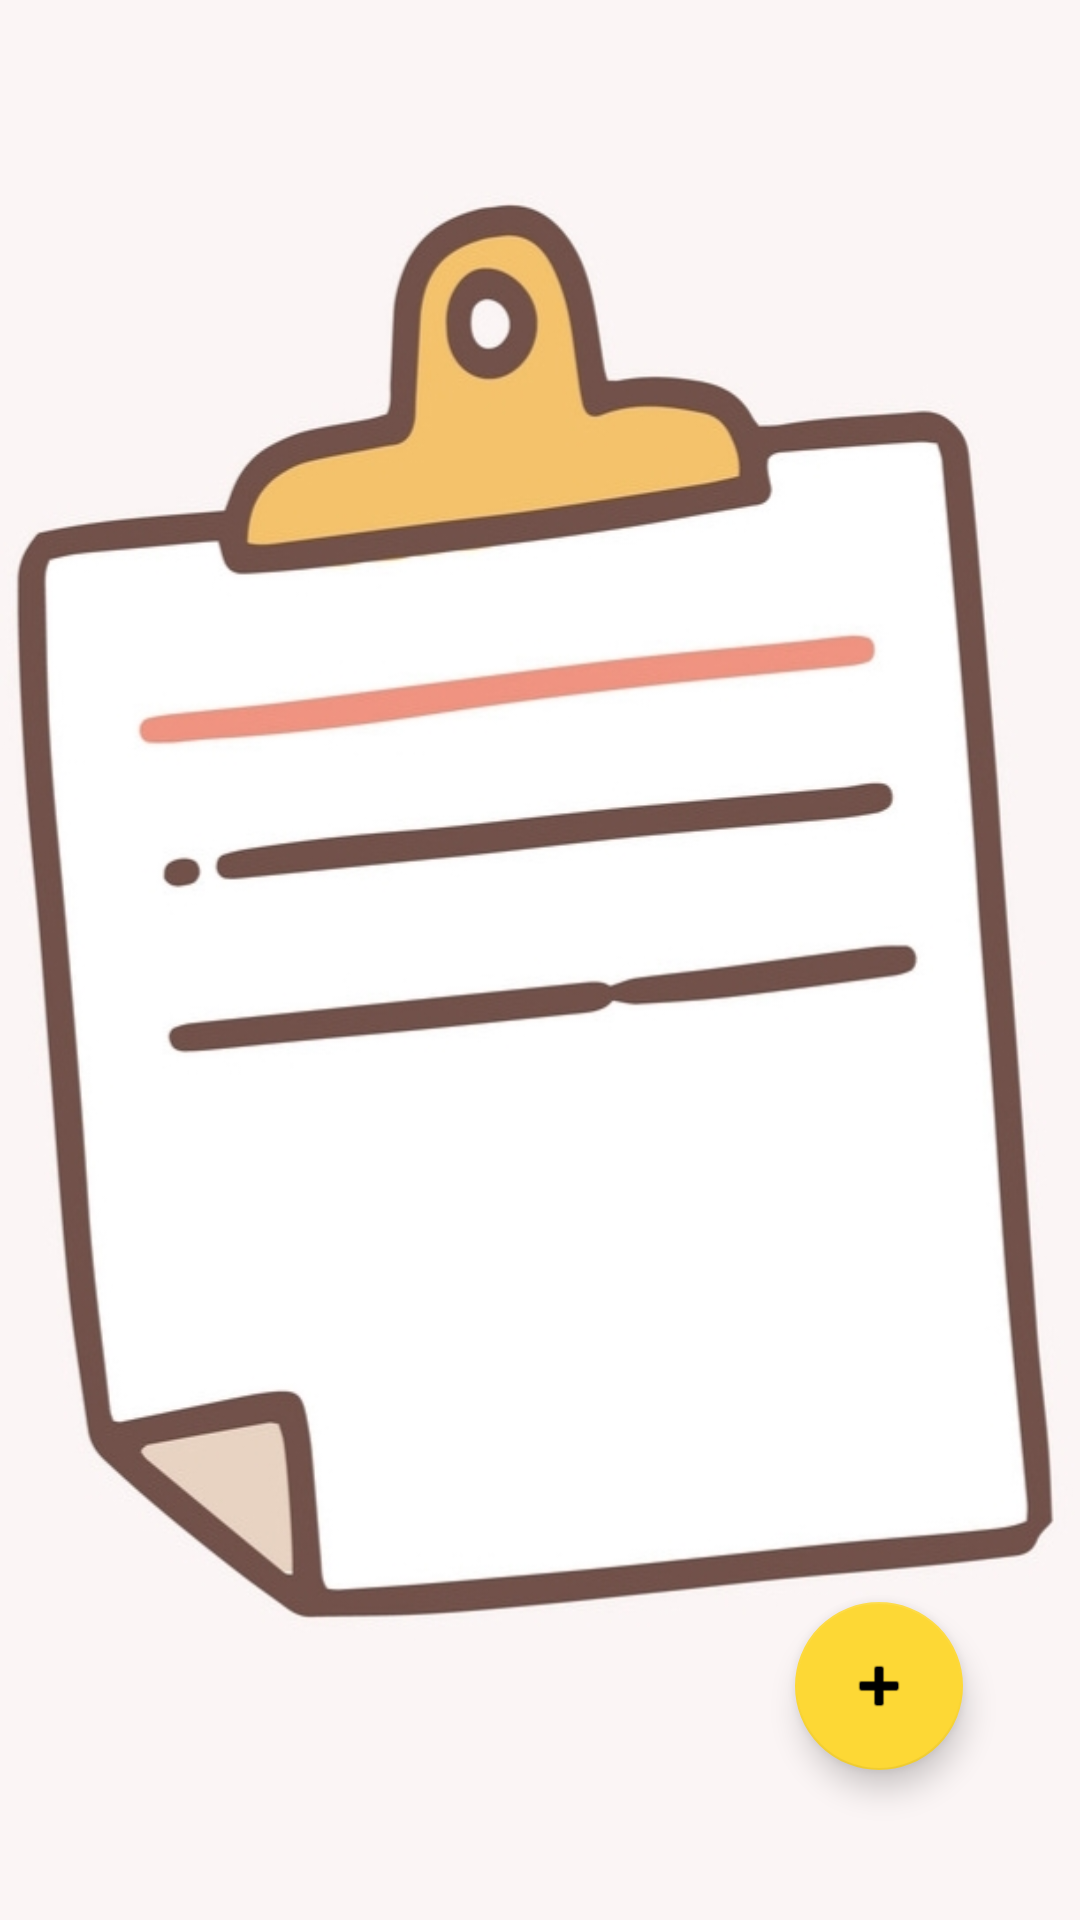

Named icons in this screenshot (1080x1920) and their centers, (x,y):
add: (879,1686)
